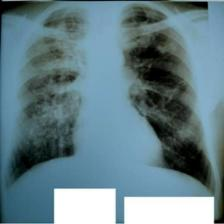tuberculosis: (3, 0, 221, 191)
